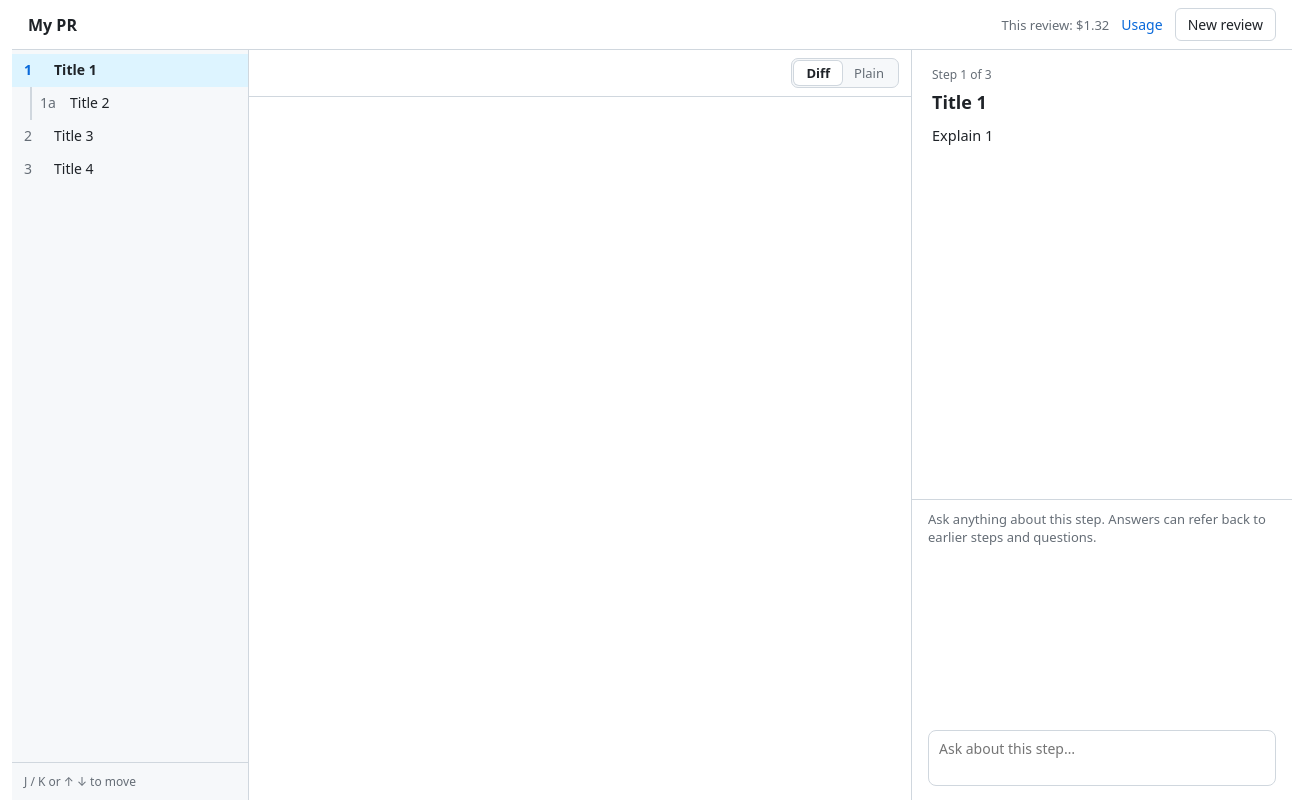
Test case: Walkthrough screen › clicking a step shows its label of the main-step count and its explanation
The width and height of the screenshot is (1292, 800).
Click the button "2 Title 3". click: {"x": 130, "y": 136}
box: [12,120,248,153]
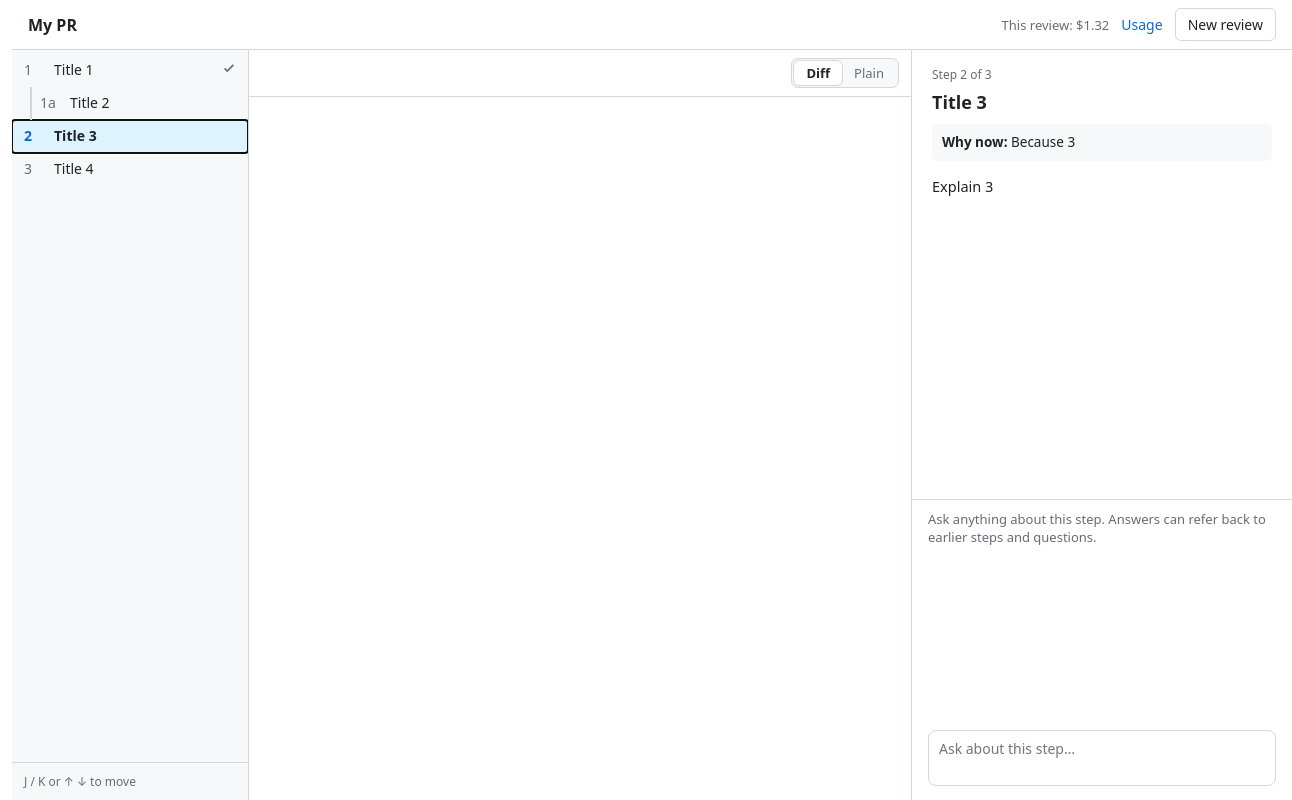
Expected: the text "Step 2 of 3" is shown, [932,66,992,83]
Expected: the text "Explain 3" is shown, [932,176,993,196]
Expected: the text "Because 3" is shown, [1011,133,1075,151]
